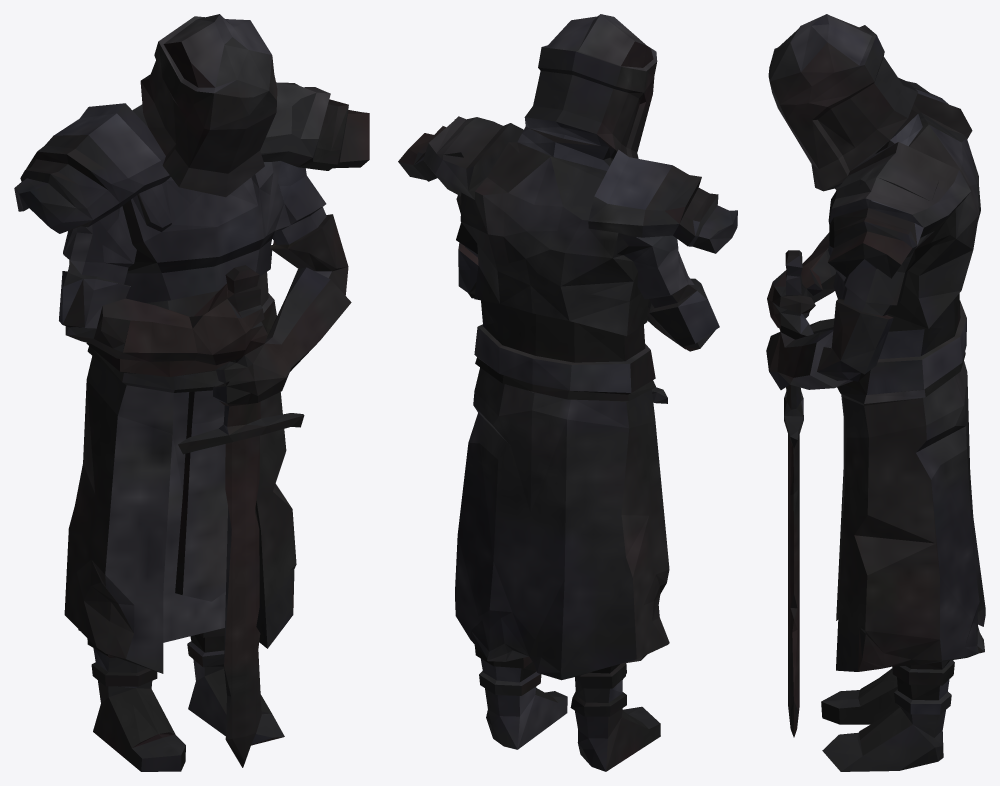
File: Statue.fbx
The picture shows the model from 3 angles, left to right: view 1: azimuth 30°, elevation 25°; view 2: azimuth 150°, elevation 25°; view 3: azimuth 270°, elevation 25°; orthographic projection. The views are drawn at different scales.
Visible parts, largest first — view 1: Statue; view 2: Statue; view 3: Statue.
Part boxes in pixels (x1,y1,x2,y2): Statue: [14, 14, 369, 771]; Statue: [398, 14, 737, 771]; Statue: [766, 14, 985, 771].
Size of the model in its own units: 502 by 1029 by 283.
1 material, 1 textured.
